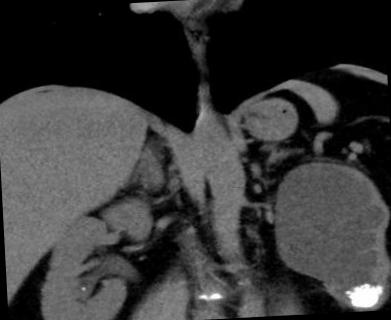Tas_Var: (344, 278, 389, 310), (207, 292, 225, 303), (197, 293, 210, 304), (375, 283, 385, 295), (78, 284, 88, 294), (364, 283, 370, 289), (345, 290, 350, 296), (359, 285, 364, 289)
